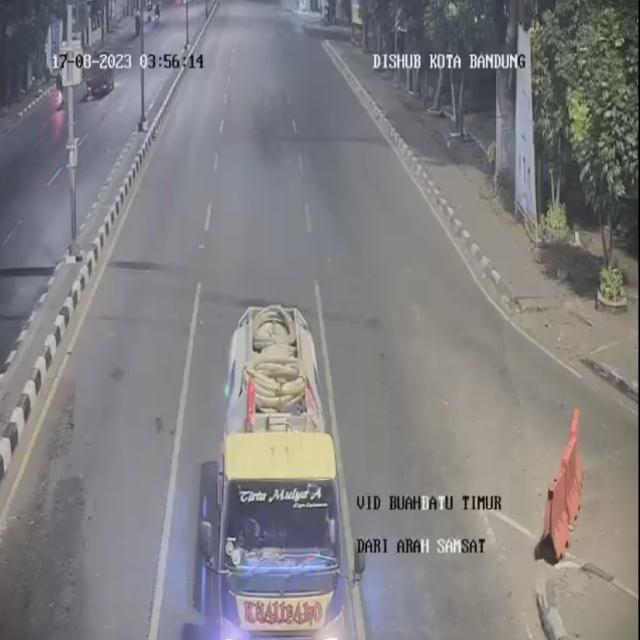cars: (196, 425, 367, 640)
